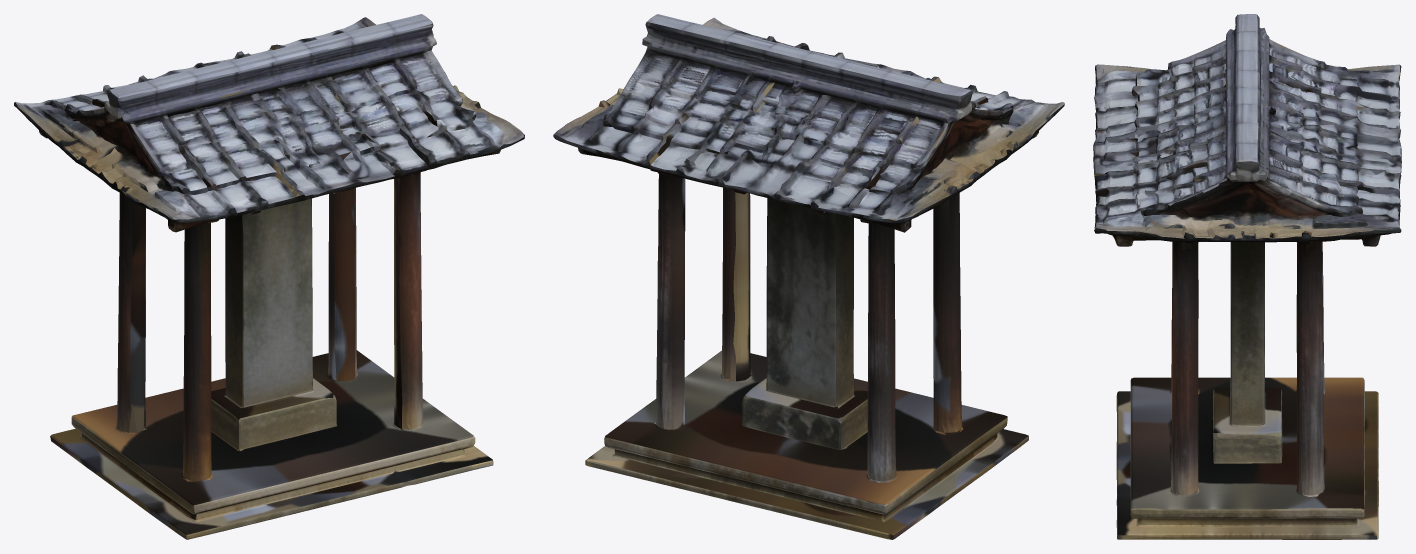
The model's file is traveler_env_coast_scorpion_memorial_stele_00001_.glb.
The picture shows the model from 3 angles, left to right: view 1: azimuth 30°, elevation 25°; view 2: azimuth 150°, elevation 25°; view 3: azimuth 270°, elevation 25°; orthographic projection. The views are drawn at different scales.
Visible parts, largest first — view 1: temp_mesh.ply; view 2: temp_mesh.ply; view 3: temp_mesh.ply.
Part boxes in pixels (<box>): temp_mesh.ply: <box>14,14,524,539</box>; temp_mesh.ply: <box>553,14,1064,539</box>; temp_mesh.ply: <box>1093,14,1401,539</box>.
Size of the model in its own units: 1.84 by 1.97 by 1.45.
1 material, 1 textured.
